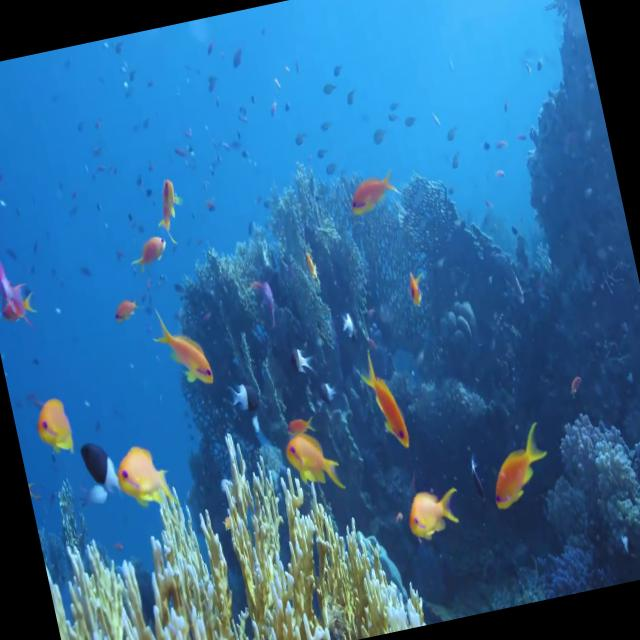fish: (484, 426, 564, 511), (354, 348, 412, 455), (152, 308, 214, 392), (112, 438, 174, 514), (282, 427, 342, 497), (404, 480, 462, 537), (78, 434, 124, 496), (30, 394, 74, 453), (344, 170, 402, 212), (148, 177, 186, 240), (126, 230, 172, 274), (224, 378, 262, 414)
